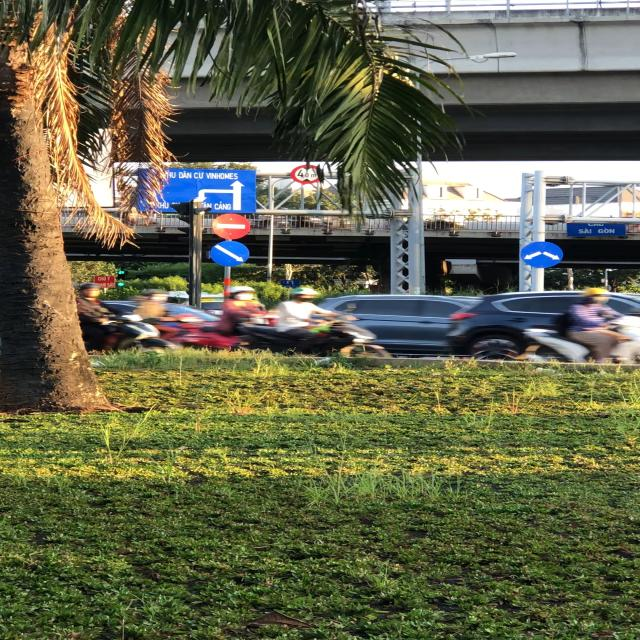Bien bao cam di nguoc chieu: (210, 212, 256, 238)
Bien bao han che chieu cao: (291, 165, 327, 185)
Bien bao huong phai di vong chuong ngai vat: (518, 238, 567, 270), (209, 239, 254, 268)
